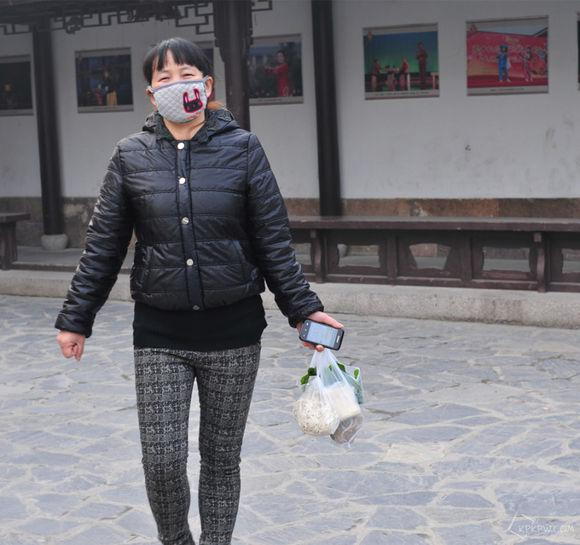OK: (153, 61, 207, 123)
